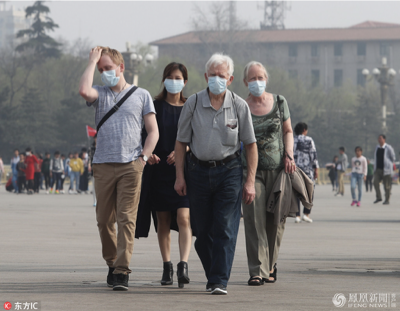with_mask: (97, 64, 120, 89), (207, 70, 229, 96), (247, 73, 267, 96), (163, 75, 185, 95)
without_mask: (379, 135, 385, 144), (356, 148, 362, 156)
